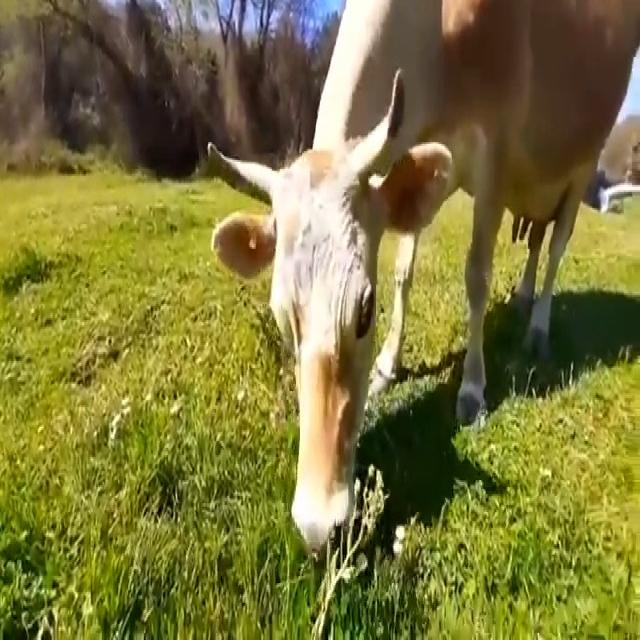cow: (209, 0, 640, 548)
